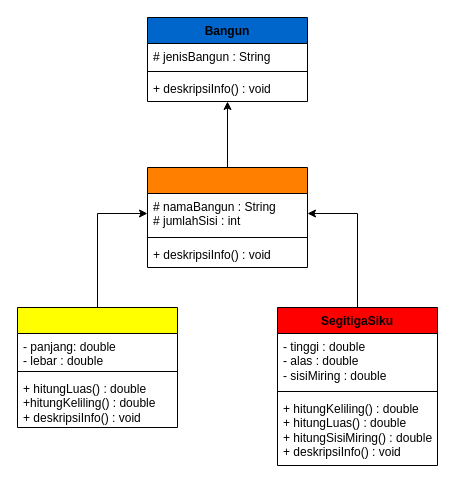
Some shapes in this 455 by 486 pixel diagram are drawn without their labels. The box of each missing label's shape, as (x1, y1, x2, y2) in pixels:
DuaDimensi: (146, 166, 308, 268)
PersegiPanjang: (16, 306, 178, 428)
